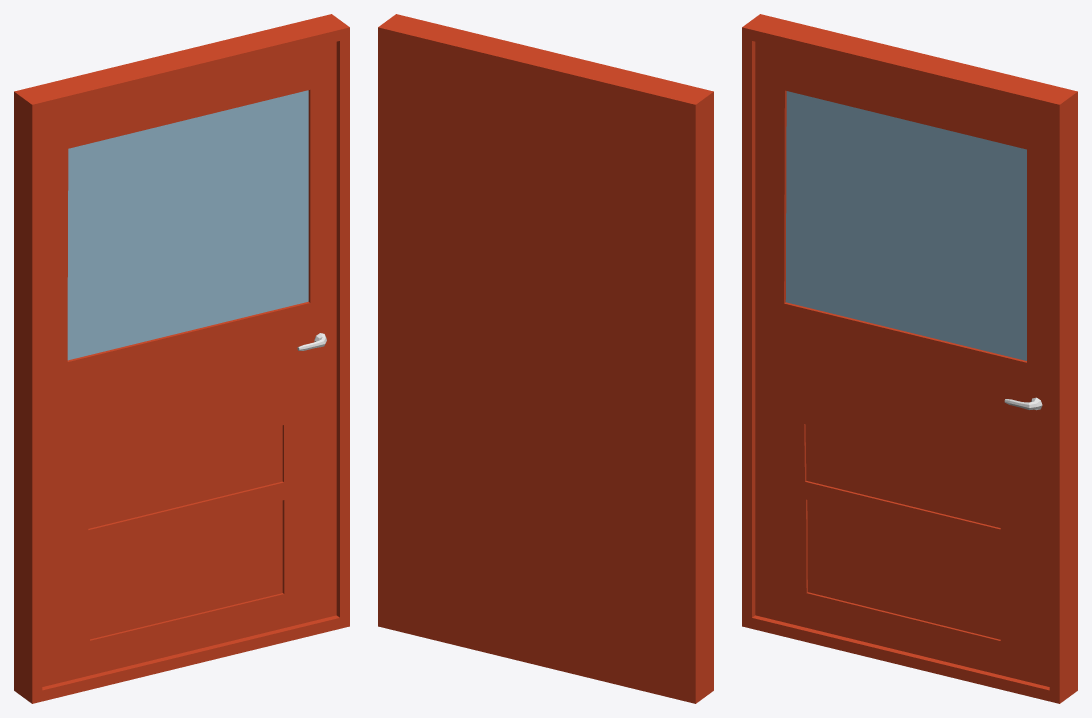
File: Red Door.glb
The picture shows the model from 3 angles, left to right: view 1: azimuth 30°, elevation 25°; view 2: azimuth 150°, elevation 25°; view 3: azimuth 330°, elevation 25°; orthographic projection.
Visible parts, largest first — view 1: Blue Door; view 2: Blue Door; view 3: Blue Door.
Part boxes in pixels (x1,y1,x2,y2): Blue Door: (14,14,349,703); Blue Door: (378,14,713,703); Blue Door: (742,14,1077,703).
Bounding box in the file's own units: 2 × 3.6 × 0.2295.
